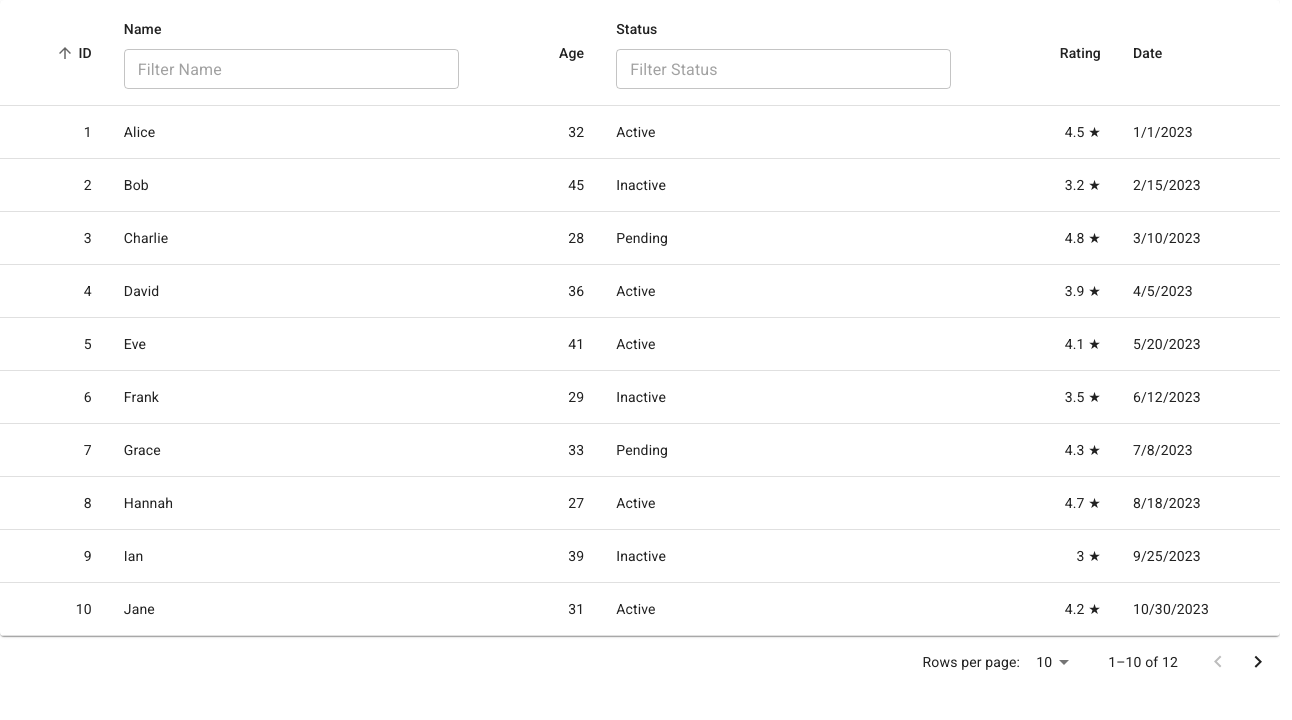
Test: DataTable › Desktop View › sorts the data when a column header is clicked
The width and height of the screenshot is (1292, 720).
Get the 'Name' column header and click it to sort
Click the button "Name".
click(143, 29)  # box [124,21,162,37]
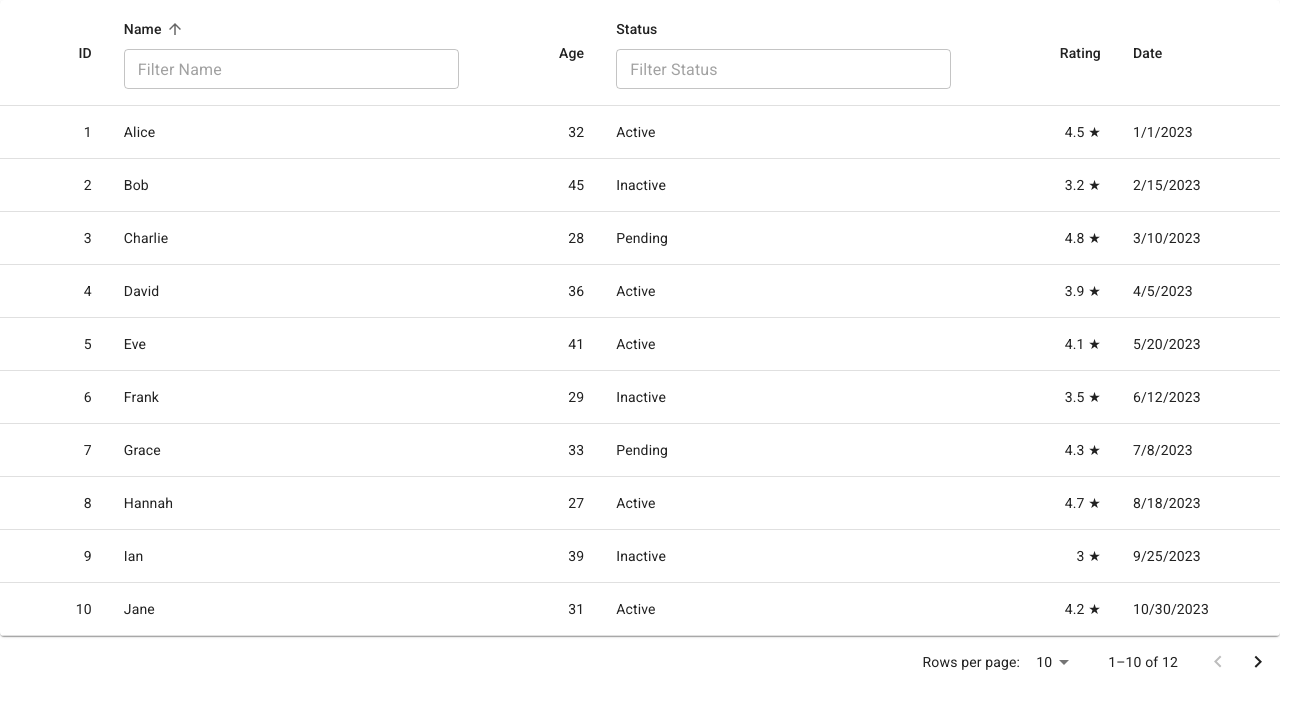
Expected: the text "Alice" is shown, [108,106,475,159]
Click again to reverse the sort
Click the button "Name".
click(156, 29)  # box [124,17,188,41]
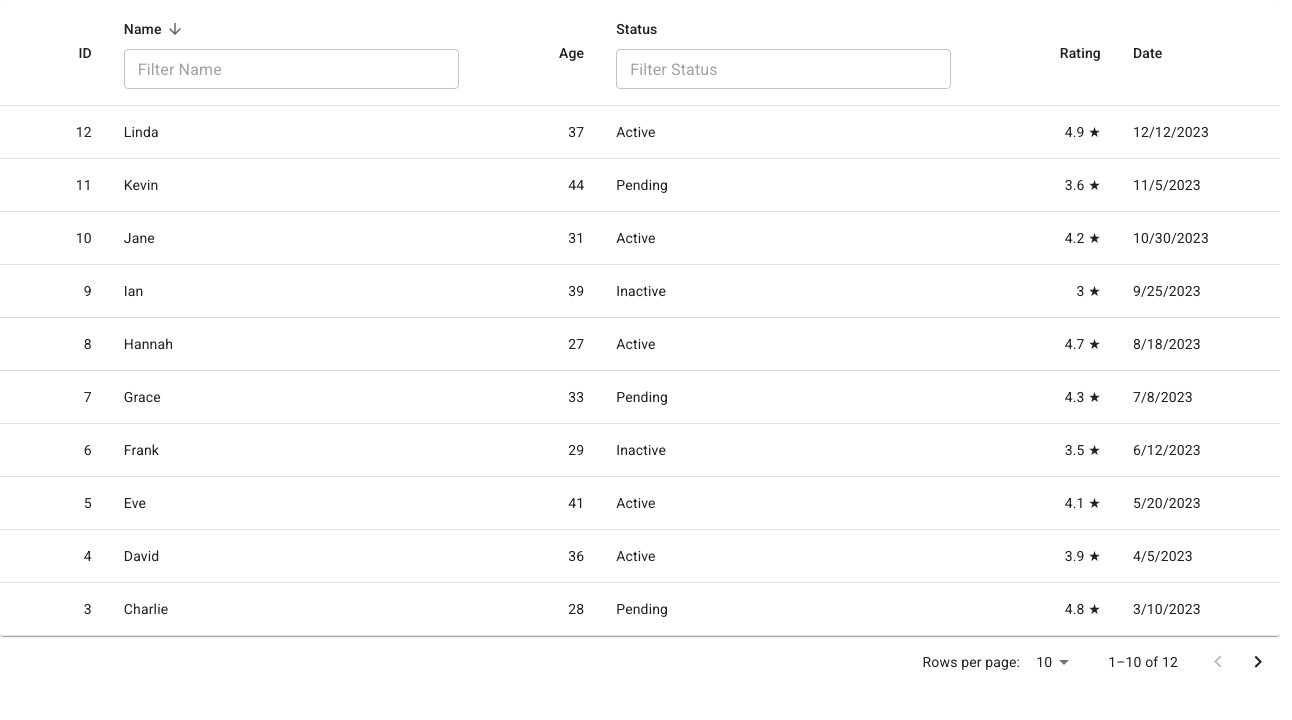
Now the text "Linda" is shown, box [108,106,475,159]
